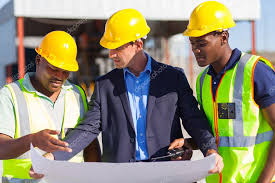helmet: (184, 1, 235, 35), (41, 32, 82, 71), (100, 11, 147, 45)
vest: (197, 70, 272, 183), (11, 84, 86, 179)
